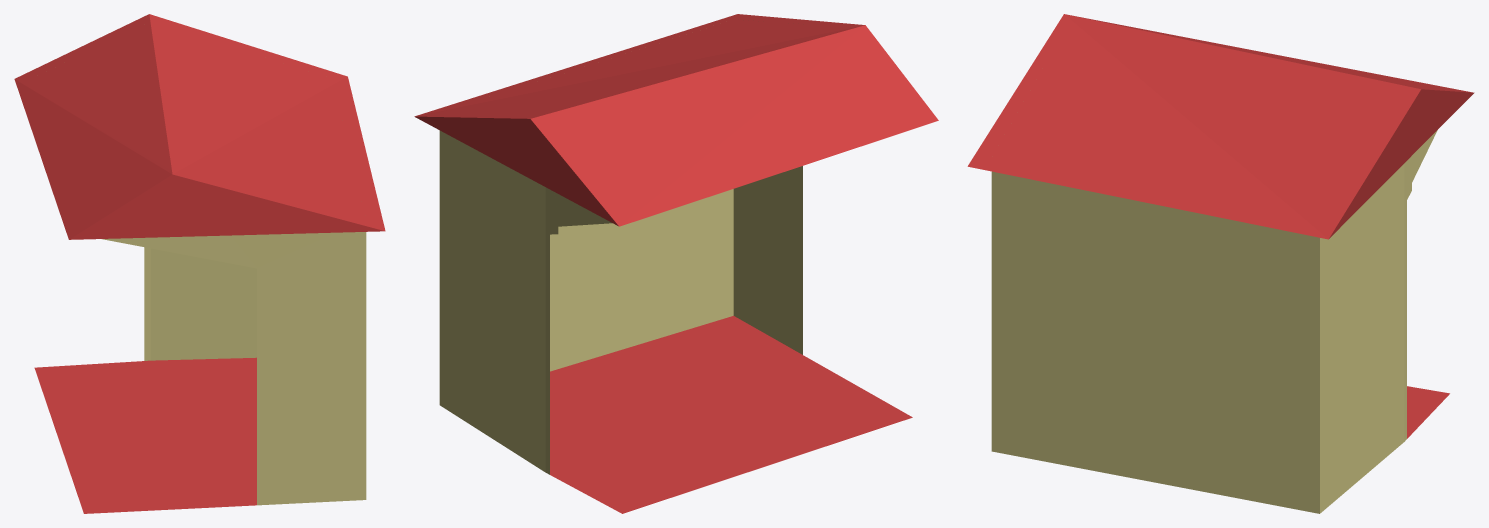
3 renders of one model, left to right at view 1: azimuth 30°, elevation 25°; view 2: azimuth 150°, elevation 25°; view 3: azimuth 270°, elevation 25°, orthographic. The views are drawn at different scales.
Size of the model in its own units: 12.65 by 13.65 by 10.57.
